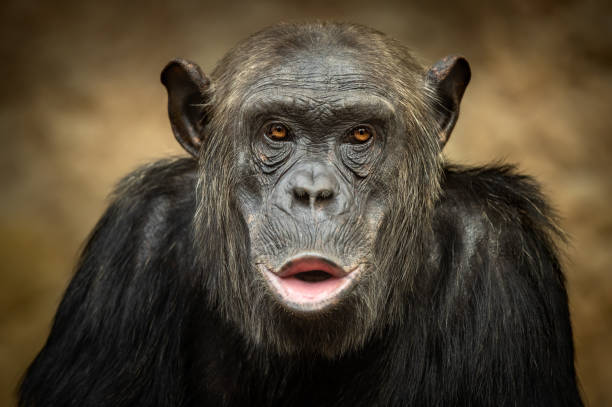chimpanzee: (128, 4, 489, 378)
